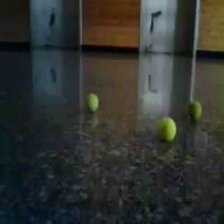tennis: (158, 117, 176, 142), (187, 101, 203, 124), (86, 93, 99, 113)
